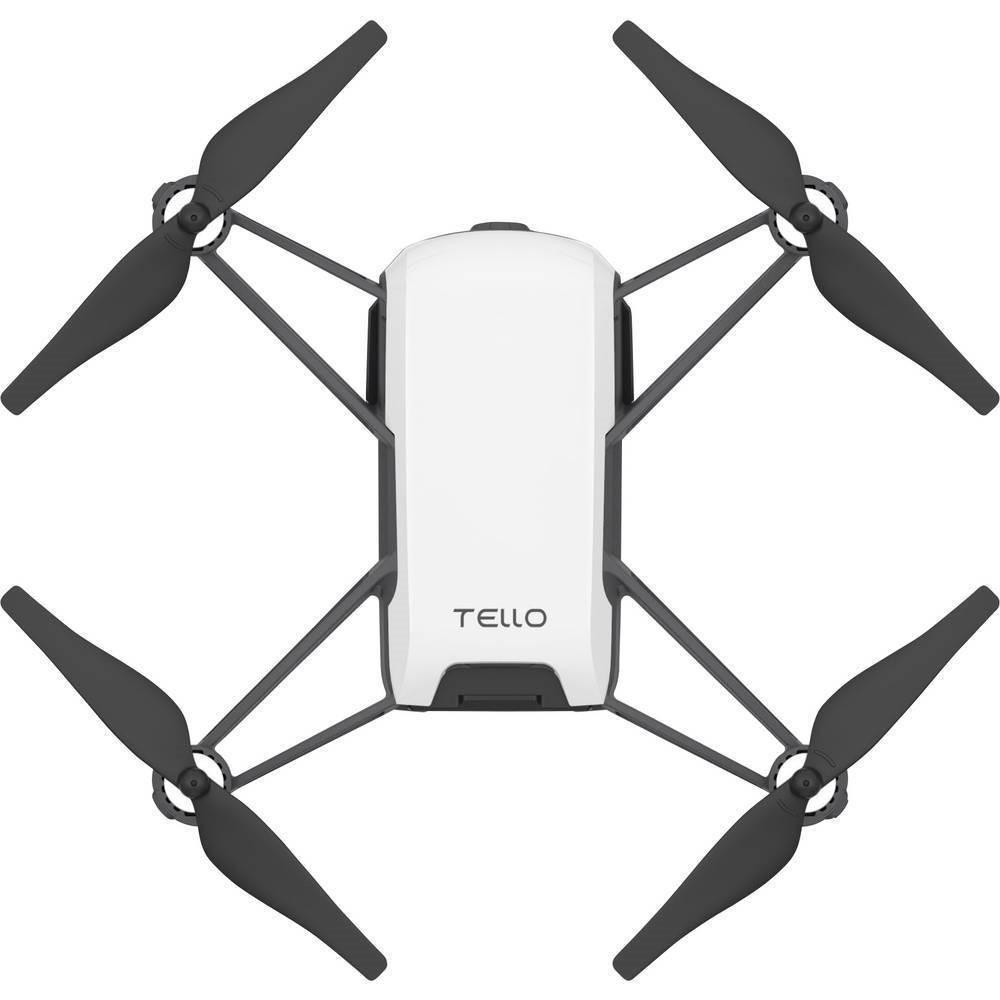drone: (23, 46, 987, 970)
